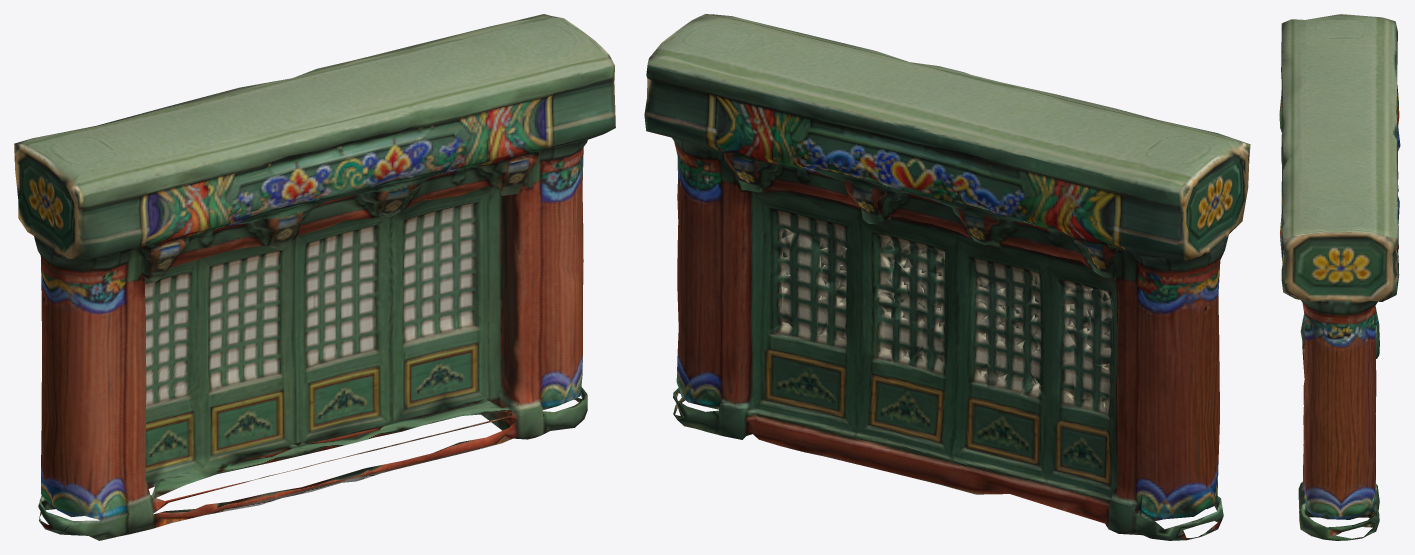
The model's file is 경복궁_2층벽모듈.glb.
The picture shows the model from 3 angles, left to right: view 1: azimuth 30°, elevation 25°; view 2: azimuth 150°, elevation 25°; view 3: azimuth 270°, elevation 25°; orthographic projection. The views are drawn at different scales.
Parts seen in each view (by area): view 1: texture_mapping; view 2: texture_mapping; view 3: texture_mapping.
Part boxes in pixels (x1=…): texture_mapping: x1=14, y1=14, x2=615, y2=540; texture_mapping: x1=644, y1=14, x2=1250, y2=540; texture_mapping: x1=1279, y1=14, x2=1400, y2=540.
Bounding box in the file's own units: 1 × 0.6698 × 0.2335.
1 material, 1 textured.
